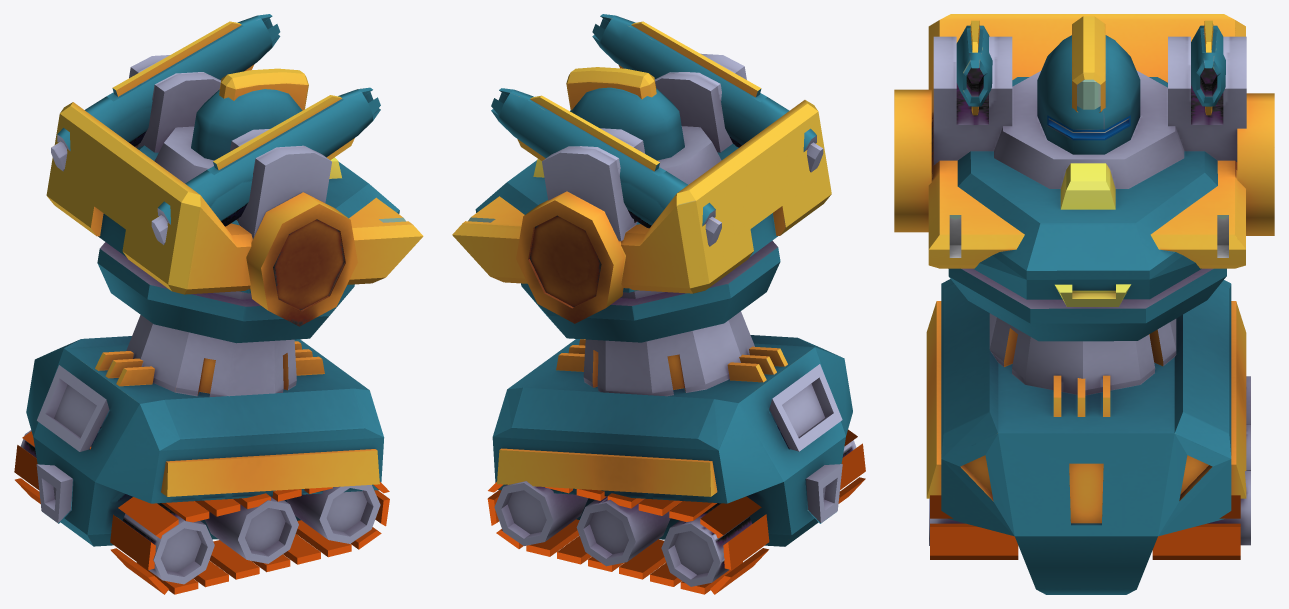
The model's file is Player_Move5.obj.
3 views of the same model, side by side, from view 1: azimuth 30°, elevation 25°; view 2: azimuth 150°, elevation 25°; view 3: azimuth 270°, elevation 25° (orthographic). The views are drawn at different scales.
Visible parts, largest first — view 1: Object004, Object014, Box009, Box017, Box016; view 2: Object004, Object014, Box009, Box016, Box017; view 3: Object004, Object014, Box017, Box016, Box009.
Boxes of the visible parts, x1,y1,x2,y2 form: Object004: (26, 55, 423, 546); Object014: (51, 14, 380, 244); Box009: (20, 430, 380, 584); Box017: (110, 481, 389, 594); Box016: (14, 431, 91, 503); Object004: (452, 53, 852, 546); Object014: (491, 14, 823, 246); Box009: (494, 440, 856, 586); Box016: (487, 482, 769, 594); Box017: (838, 429, 865, 503); Object004: (894, 14, 1274, 594); Object014: (956, 20, 1225, 115); Box017: (930, 495, 1018, 559); Box016: (1152, 495, 1240, 559); Box009: (929, 376, 1250, 545).
Size of the model in its own units: 60.24 by 82.24 by 52.49.
